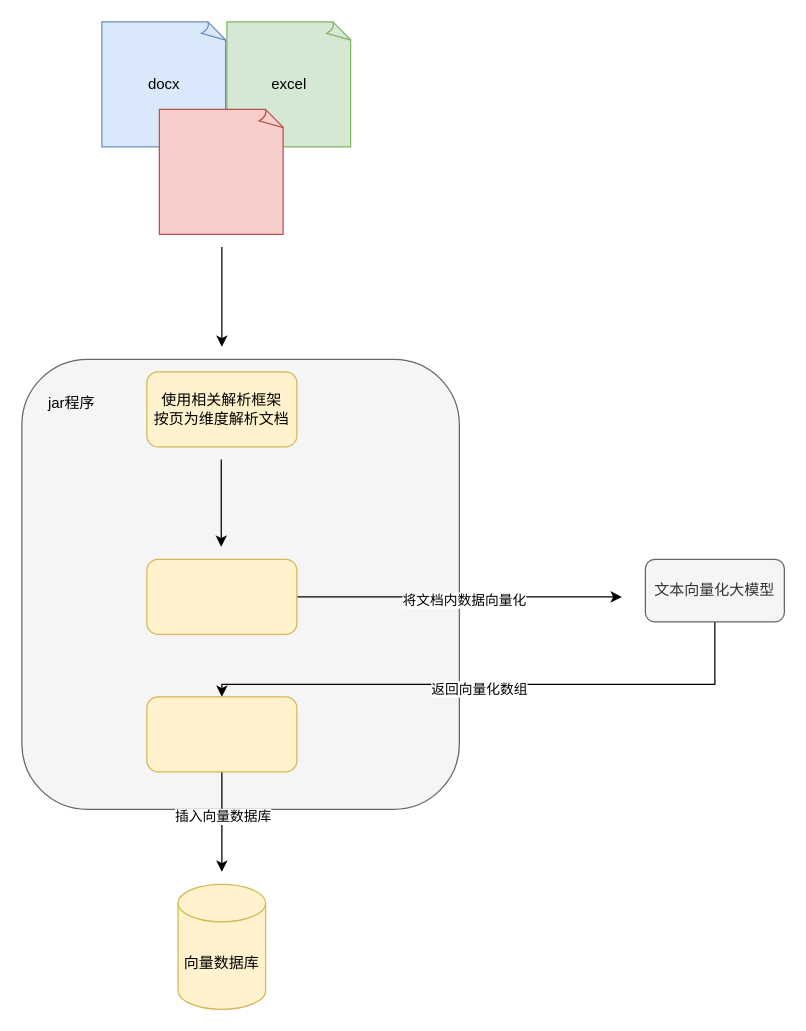
Some shapes in this 806 by 1031 pixel diagram are drawn without their labels. The shapes that lost their labels are listed below. From the top down, each one's box as (x1, y1, x2, y2) in pixels, then its label:
(158, 108, 284, 234): pdf
(146, 558, 297, 634): 读取到文档内文本内容
(146, 696, 297, 772): 拼装数据payload
